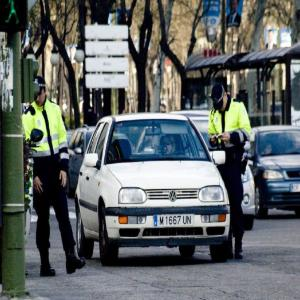Vehicle-registration-plate: (154, 216, 195, 229), (291, 184, 300, 193)
